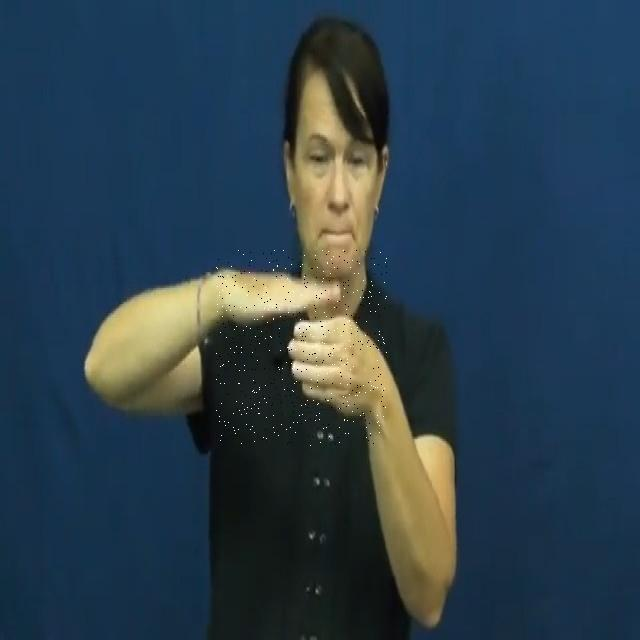lid: (216, 250, 387, 446)
